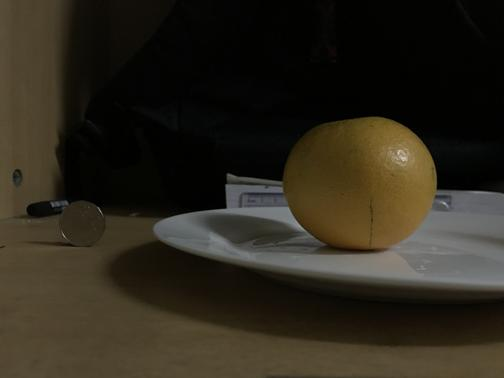coin: (58, 203, 106, 248)
orange: (284, 115, 437, 252)
